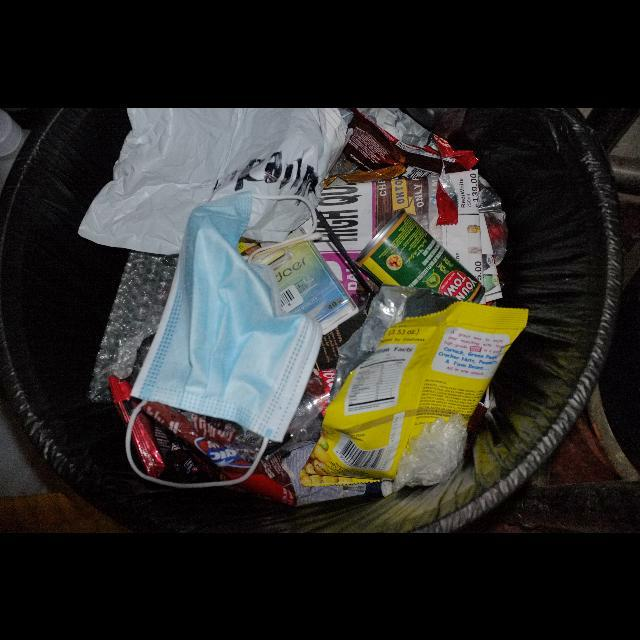aluminum: (354, 207, 485, 303)
food_wrapper: (300, 284, 529, 486), (341, 107, 479, 224)
paper: (301, 169, 503, 310)
plastic_bag: (76, 107, 349, 255), (394, 413, 468, 493)
